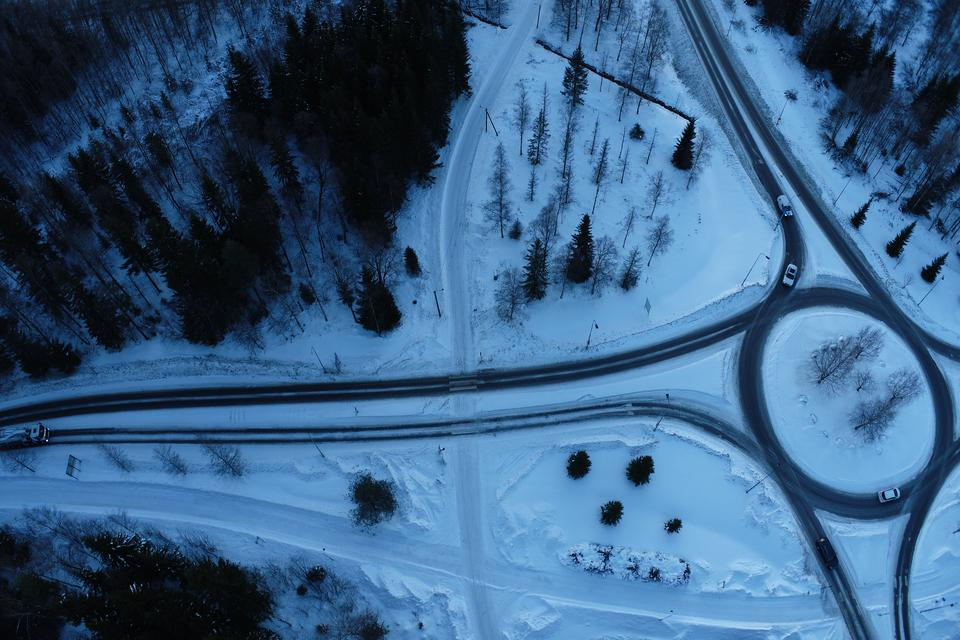intersection: (788, 564, 955, 616), (436, 360, 491, 447)
roundabout: (715, 268, 960, 534)
